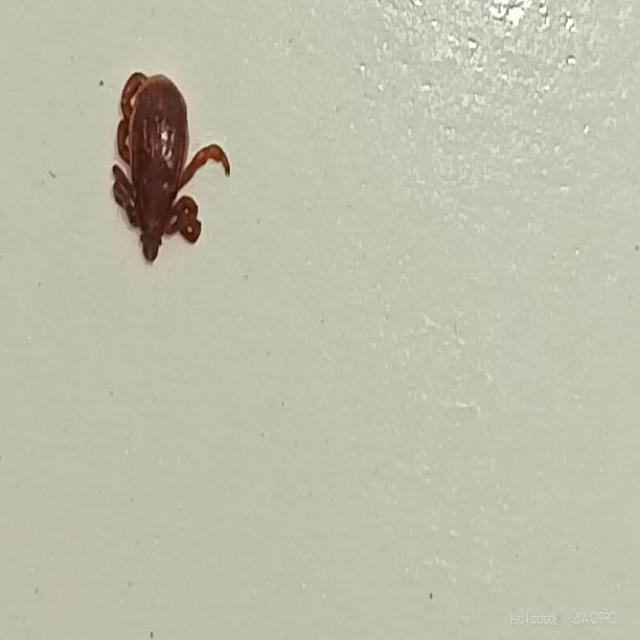Rhipicephalus Sanguineus-M: (110, 72, 232, 266)
